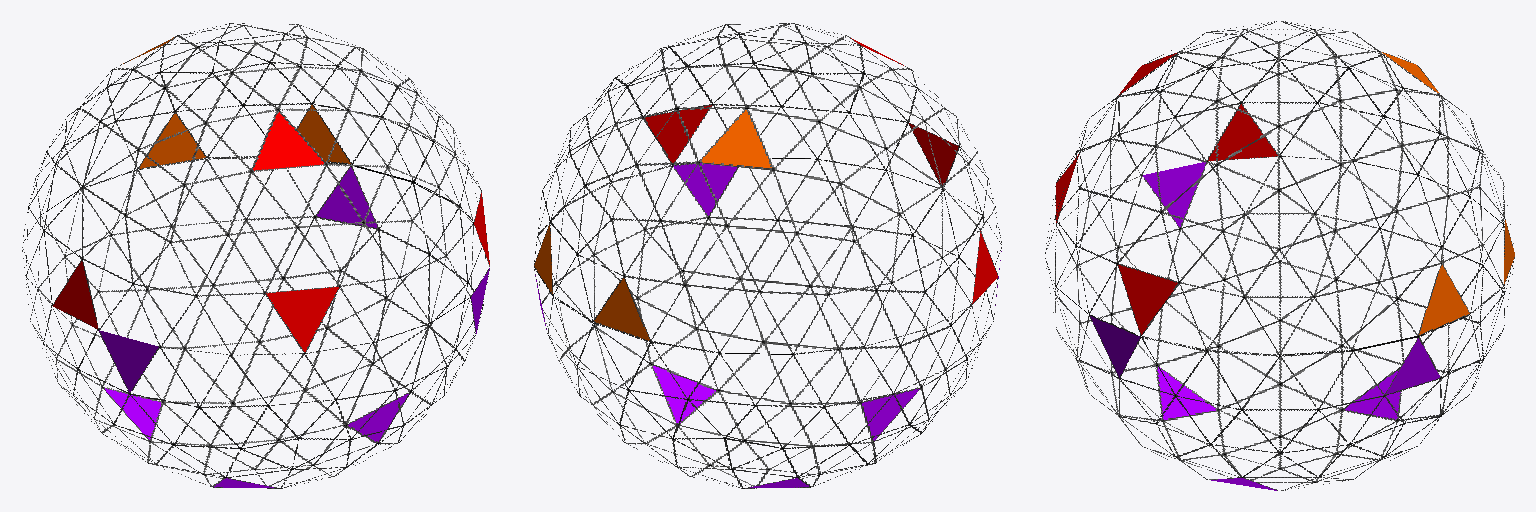
The picture shows the model from 3 angles: view 1: azimuth 30°, elevation 25°; view 2: azimuth 150°, elevation 25°; view 3: azimuth 270°, elevation 25°; orthographic projection.
Parts seen in each view (by area): view 1: Icosphere; view 2: Icosphere; view 3: Icosphere.
Boxes of the visible parts, x1,y1,x2,y2 form: Icosphere: [22, 23, 489, 488]; Icosphere: [534, 23, 1001, 488]; Icosphere: [1045, 21, 1514, 490].
Size of the model in its own units: 2 by 2 by 2.
Materials: 1 (1 with a texture image).